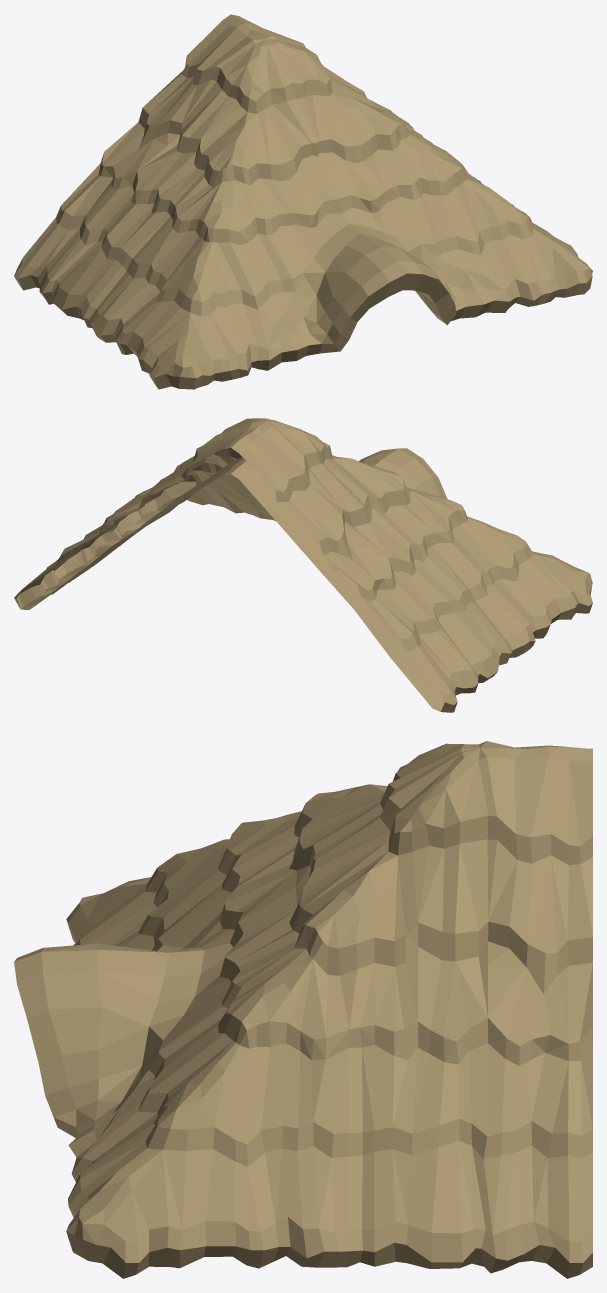
Rendered from rpgpp_ag_roof_02_9x4x3_end_04.fbx.
3 renders of one model, top to bottom at view 1: azimuth 30°, elevation 25°; view 2: azimuth 150°, elevation 25°; view 3: azimuth 270°, elevation 25°, orthographic. The views are drawn at different scales.
Parts seen in each view (by area): view 1: rpgpp_ag_roof_02_9x4x3_end_04; view 2: rpgpp_ag_roof_02_9x4x3_end_04; view 3: rpgpp_ag_roof_02_9x4x3_end_04.
Boxes of the visible parts, <box> form: rpgpp_ag_roof_02_9x4x3_end_04: <box>14,14,592,389</box>; rpgpp_ag_roof_02_9x4x3_end_04: <box>14,418,592,712</box>; rpgpp_ag_roof_02_9x4x3_end_04: <box>14,741,592,1278</box>.
Bounding box in the file's own units: 11.07 × 5.27 × 7.69.
